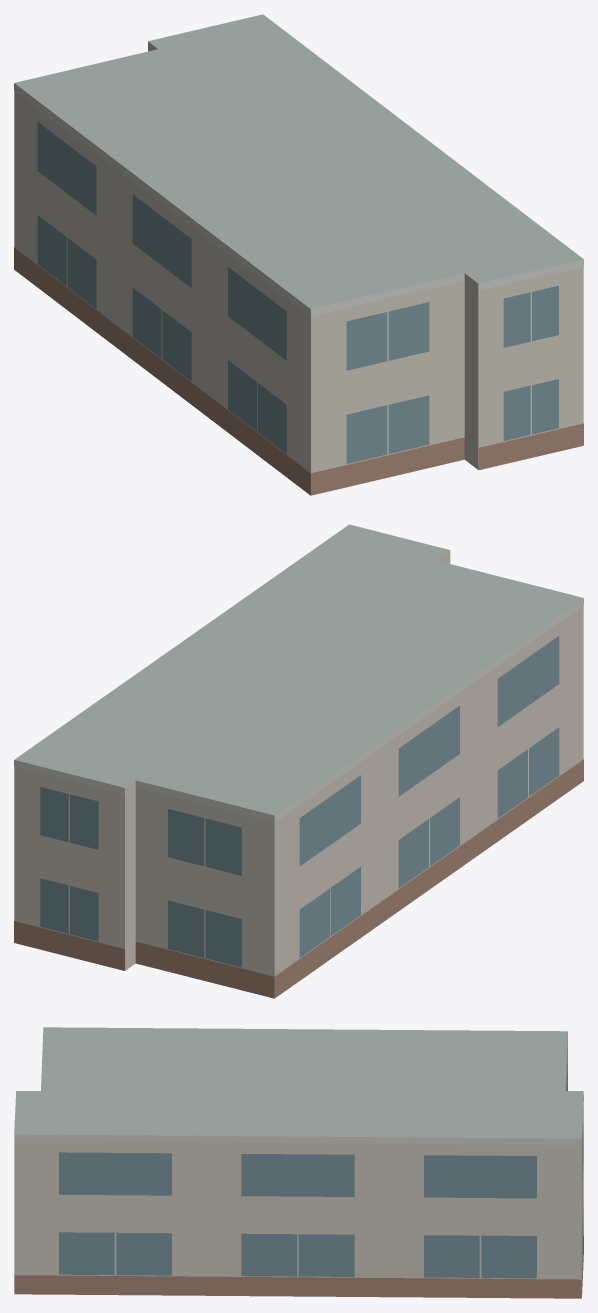
File: survey-upis-32971904.glb
3 views of the same model, one above another, from view 1: azimuth 30°, elevation 25°; view 2: azimuth 150°, elevation 25°; view 3: azimuth 270°, elevation 25° (orthographic). The views are drawn at different scales.
Parts seen in each view (by area): view 1: survey-upis-32971904.tmp; view 2: survey-upis-32971904.tmp; view 3: survey-upis-32971904.tmp.
Boxes of the visible parts, x1,y1,x2,y2 form: survey-upis-32971904.tmp: [14, 14, 583, 495]; survey-upis-32971904.tmp: [14, 524, 583, 998]; survey-upis-32971904.tmp: [14, 1027, 583, 1298].
Size of the model in its own units: 9.13 by 6.1 by 19.71.
